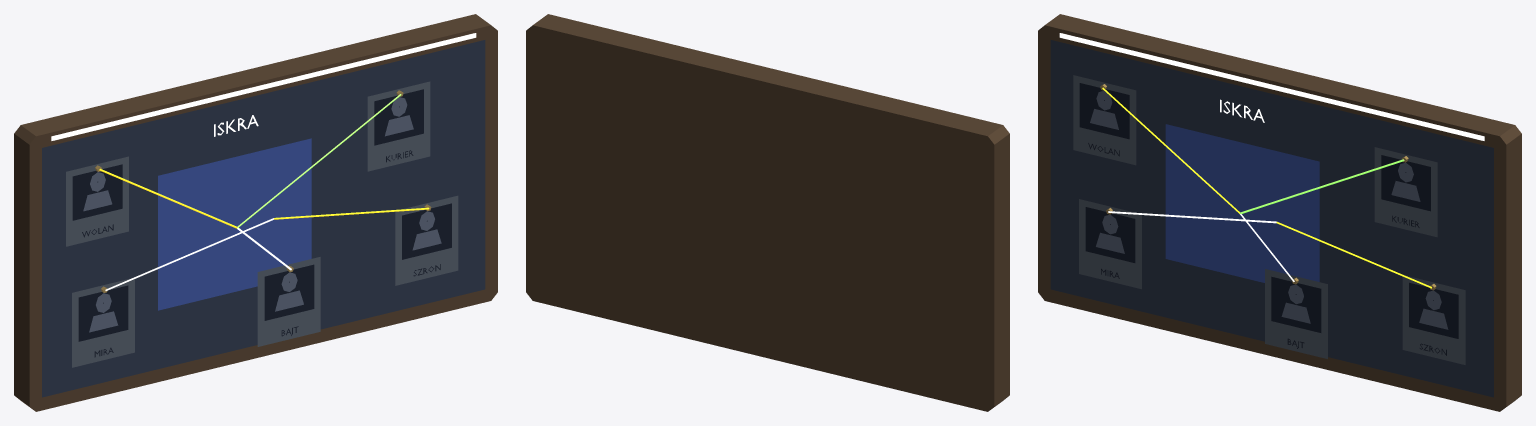
Rendered from res_investigation_board_iskra.glb.
The picture shows the model from 3 angles, left to right: view 1: azimuth 30°, elevation 25°; view 2: azimuth 150°, elevation 25°; view 3: azimuth 330°, elevation 25°; orthographic projection.
Parts seen in each view (by area): view 1: evidence_backing, walnut_frame, print.001, evidence_card, lettering, portrait_head, evidence_thread.001, evidence_thread, evidence_thread.002; view 2: walnut_frame; view 3: evidence_backing, walnut_frame, print.001, evidence_card, lettering, evidence_thread.001, portrait_head, evidence_thread, evidence_thread.002.
Boxes of the visible parts, x1,y1,x2,y2 form: evidence_backing: (42,40,485,397); walnut_frame: (14,14,497,411); print.001: (158,138,311,310); evidence_card: (66,81,458,367); lettering: (72,89,451,357); portrait_head: (83,97,441,332); evidence_thread.001: (51,33,476,290); evidence_thread: (99,168,429,228); evidence_thread.002: (237,94,401,227); walnut_frame: (526,14,1009,411); evidence_backing: (1050,40,1493,397); walnut_frame: (1038,14,1521,411); print.001: (1165,124,1319,282); evidence_card: (1073,75,1465,364); lettering: (1079,83,1458,355); evidence_thread.001: (1059,33,1484,281); portrait_head: (1090,90,1448,329); evidence_thread: (1102,87,1431,288); evidence_thread.002: (1240,159,1404,213).
Bounding box in the file's own units: 3.2 × 1.8 × 0.22.
